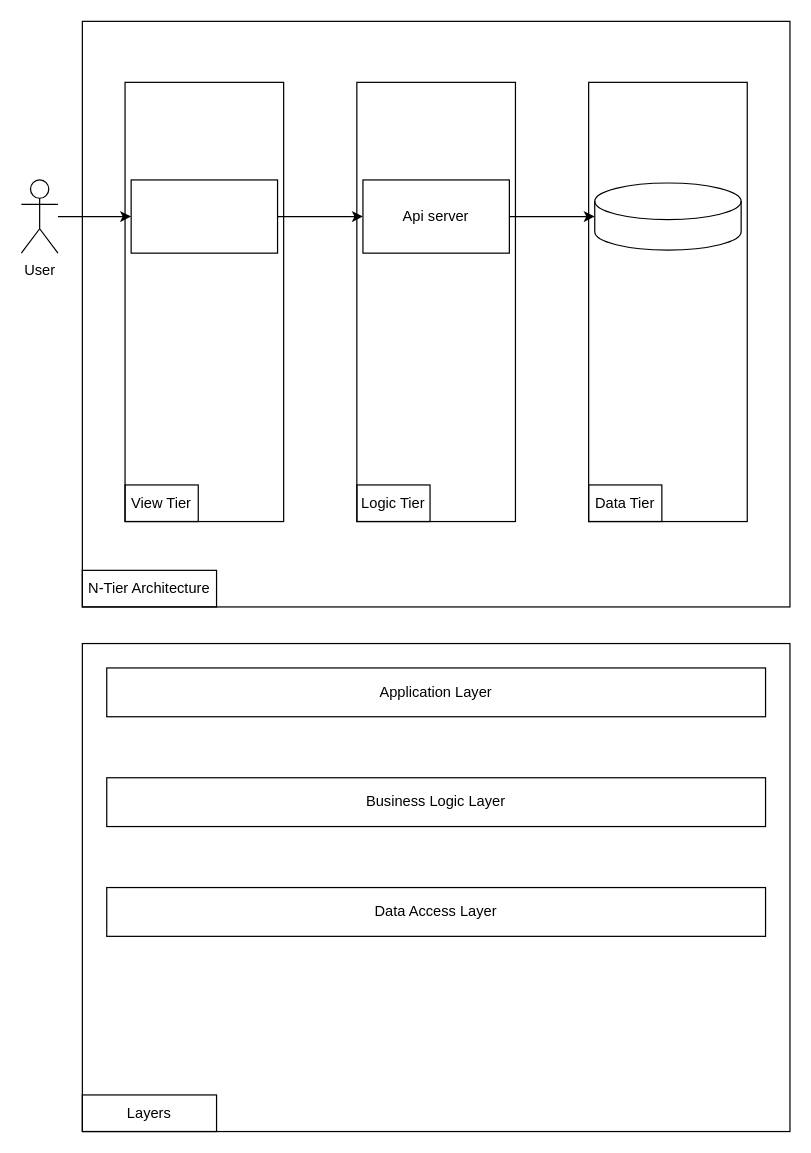
Some shapes in this 811 by 1153 pixel diagram are drawn without their labels. Each missing label, with the box of its shape:
database: (594, 182, 741, 250)
website: (130, 179, 278, 253)
